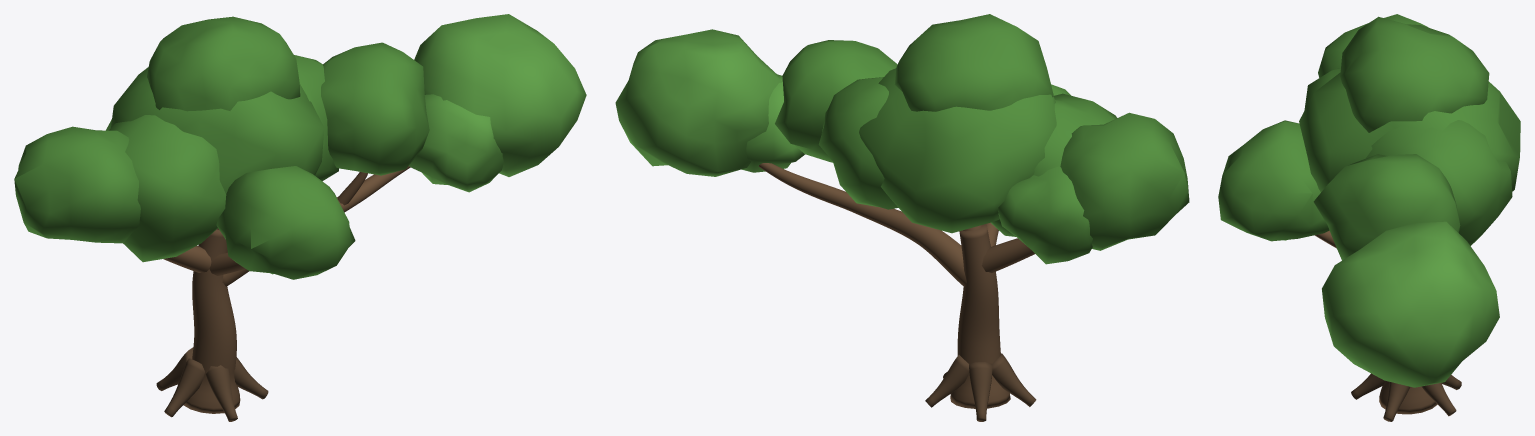
File: original.glb
3 views of the same model, side by side, from view 1: azimuth 30°, elevation 25°; view 2: azimuth 150°, elevation 25°; view 3: azimuth 270°, elevation 25° (orthographic). The views are drawn at different scales.
Parts seen in each view (by area): view 1: Foliage, Tip foliage, Trunk, Roots, Branches; view 2: Foliage, Tip foliage, Trunk, Branches, Roots; view 3: Foliage, Tip foliage, Roots, Trunk.
Boxes of the visible parts, <box> form: Foliage: <box>14,16,429,279</box>; Tip foliage: <box>409,14,586,192</box>; Trunk: <box>183,229,240,413</box>; Roots: <box>156,347,268,421</box>; Branches: <box>163,166,410,286</box>; Foliage: <box>775,14,1189,264</box>; Tip foliage: <box>615,29,804,176</box>; Trunk: <box>950,224,1010,408</box>; Branches: <box>759,163,1034,286</box>; Roots: <box>925,352,1036,421</box>; Foliage: <box>1218,14,1520,260</box>; Tip foliage: <box>1322,221,1499,387</box>; Roots: <box>1351,373,1461,421</box>; Trunk: <box>1379,381,1437,414</box>.
Bounding box in the file's own units: 15.06 × 9.72 × 7.01.
